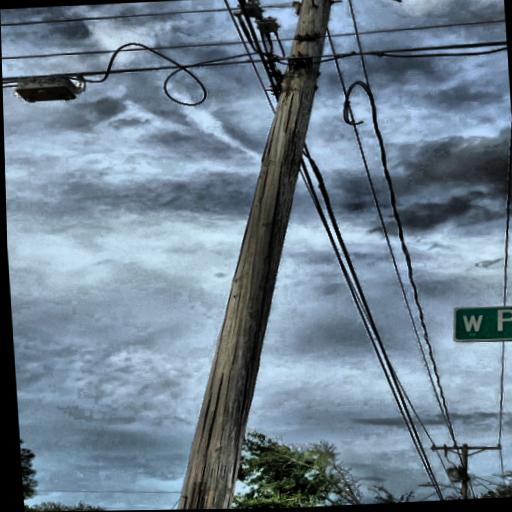pole: (78, 0, 402, 511)
